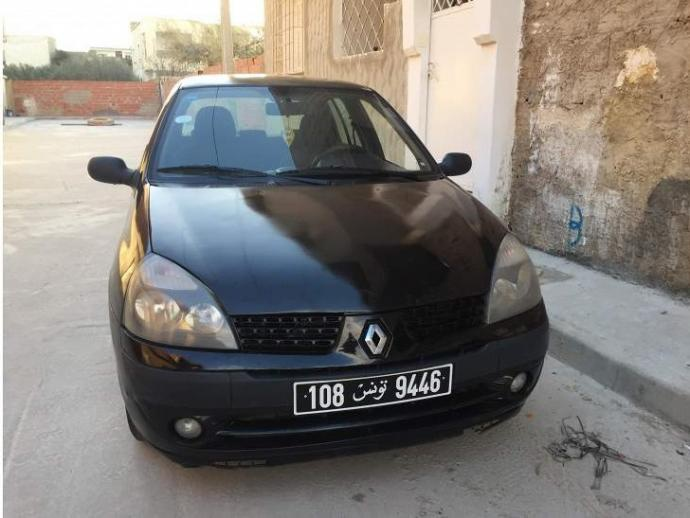LP: (287, 362, 461, 418)
